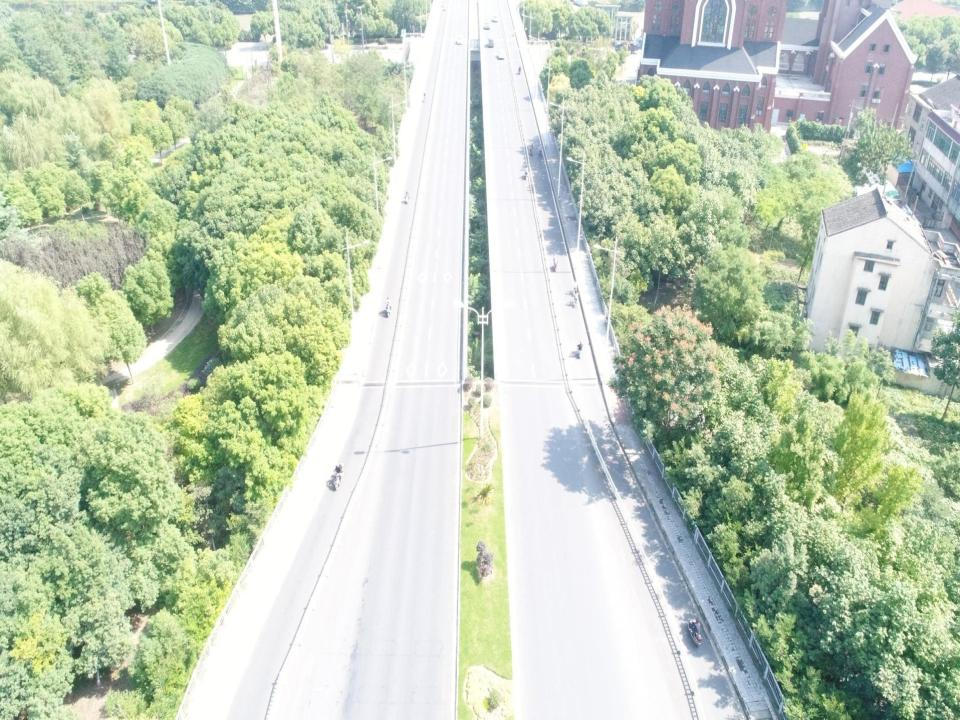car: (496, 49, 505, 59), (456, 35, 464, 44), (484, 22, 491, 30), (492, 15, 498, 21)
truck: (615, 42, 639, 54)
van: (488, 38, 494, 48)
